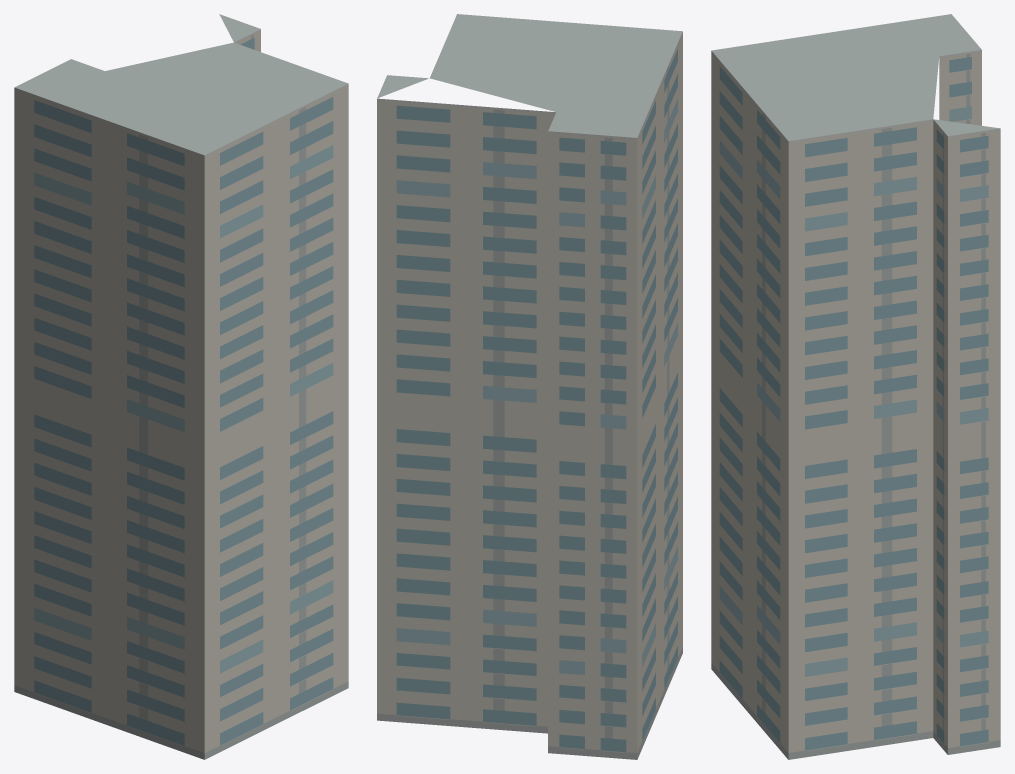
File: residential-d5f3d71e-1729-4d8a-a5dd-1f055d7fc548.glb
3 renders of one model, left to right at view 1: azimuth 30°, elevation 25°; view 2: azimuth 150°, elevation 25°; view 3: azimuth 270°, elevation 25°, orthographic. The views are drawn at different scales.
Visible parts, largest first — view 1: residential-d5f3d71e-1729-4d8a-a5dd-1f055d7fc548.tmp; view 2: residential-d5f3d71e-1729-4d8a-a5dd-1f055d7fc548.tmp; view 3: residential-d5f3d71e-1729-4d8a-a5dd-1f055d7fc548.tmp.
Boxes of the visible parts, x1,y1,x2,y2 form: residential-d5f3d71e-1729-4d8a-a5dd-1f055d7fc548.tmp: [14, 14, 348, 759]; residential-d5f3d71e-1729-4d8a-a5dd-1f055d7fc548.tmp: [377, 14, 682, 759]; residential-d5f3d71e-1729-4d8a-a5dd-1f055d7fc548.tmp: [711, 14, 1000, 759].
Bounding box in the file's own units: 31.33 × 71 × 30.1.
